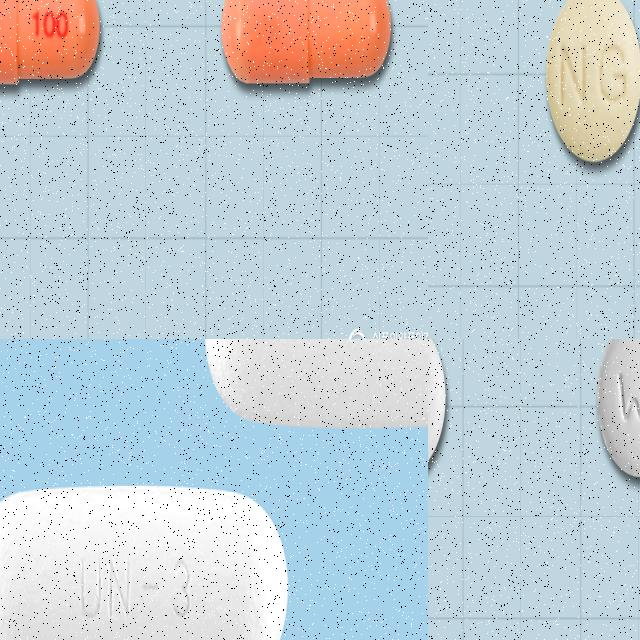Kukje Cefixime Cap: (219, 0, 392, 83), (0, 0, 100, 85)
Nevolaxin Tablet: (545, 0, 640, 165)
Uniciprosacin Tab: (0, 488, 287, 640), (205, 339, 428, 425)
Withus Levofloxacin Tab: (596, 339, 640, 479)
